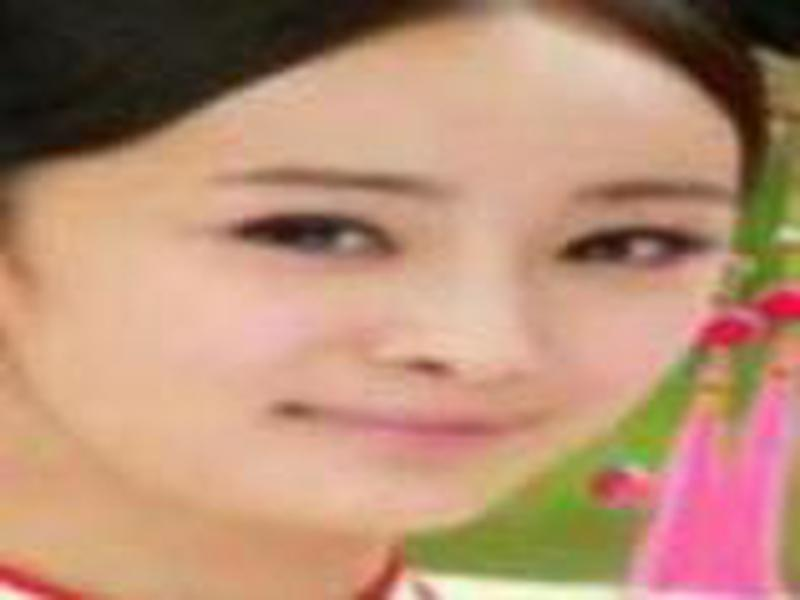without_mask: (51, 23, 748, 548)
